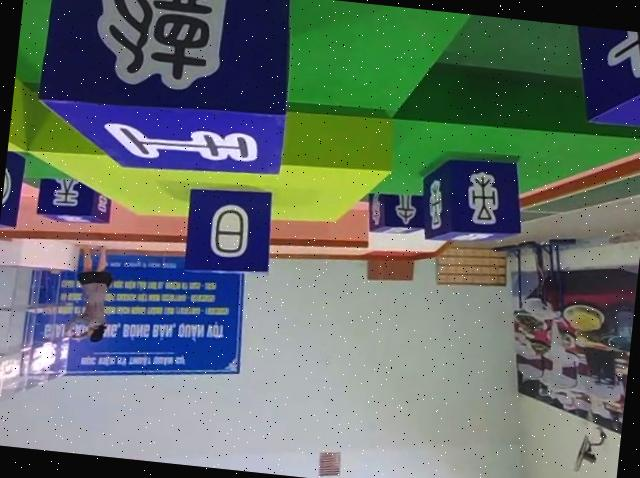R2 Fake Blue: (31, 0, 296, 185), (182, 182, 277, 280), (367, 191, 431, 238)
R2 Real Blue: (419, 152, 529, 249), (563, 25, 640, 129), (36, 174, 114, 226), (0, 150, 26, 234)
